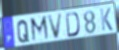8: (82, 9, 97, 36)
D: (65, 12, 81, 39)
K: (99, 7, 114, 32)
M: (30, 15, 51, 44)
Q: (16, 19, 30, 44)
V: (47, 12, 64, 41)
